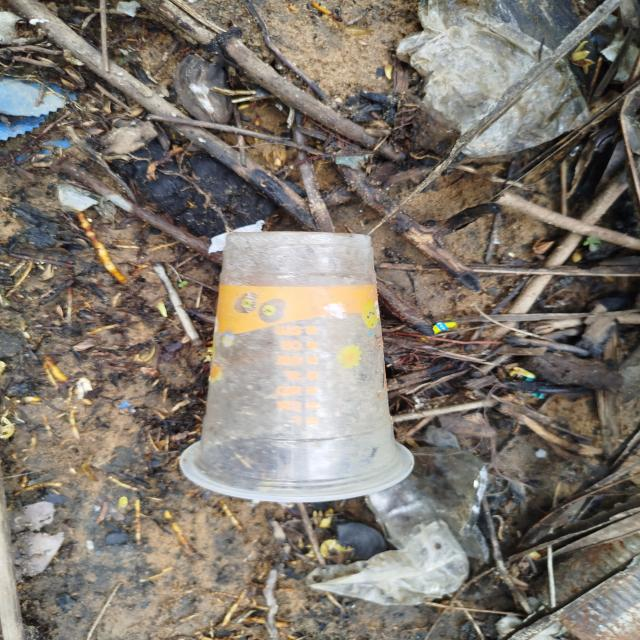plastic: (171, 212, 436, 522)
